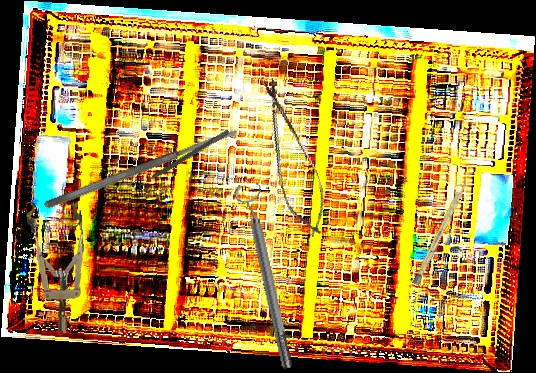Fixation Ring: (232, 180, 301, 372), (130, 124, 234, 197)
Micro Scissor: (248, 73, 336, 242)
Scalpel Handle: (412, 179, 469, 286)
Spatula Surgical: (42, 126, 242, 211)
Speculum: (25, 198, 90, 335)
